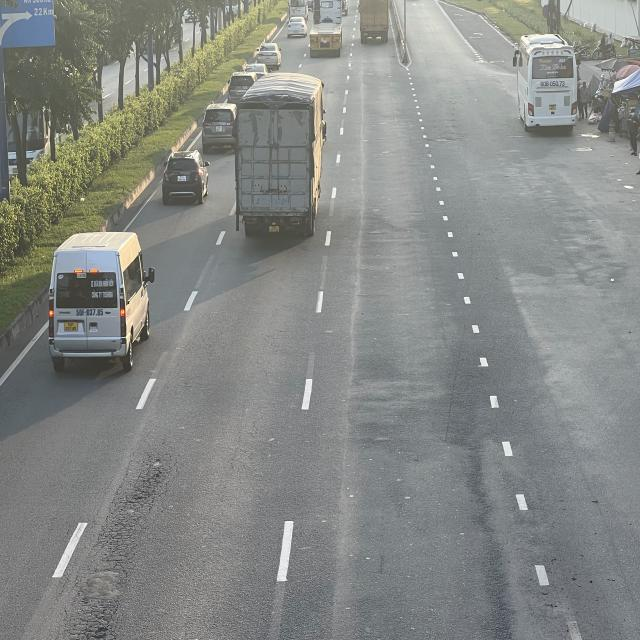car: (164, 150, 212, 208), (201, 102, 240, 152), (258, 41, 283, 71), (286, 14, 307, 38)
coach: (517, 34, 580, 134)
container: (308, 0, 344, 54)
truck: (238, 74, 331, 237), (358, 0, 391, 44)
van: (47, 229, 155, 375)
